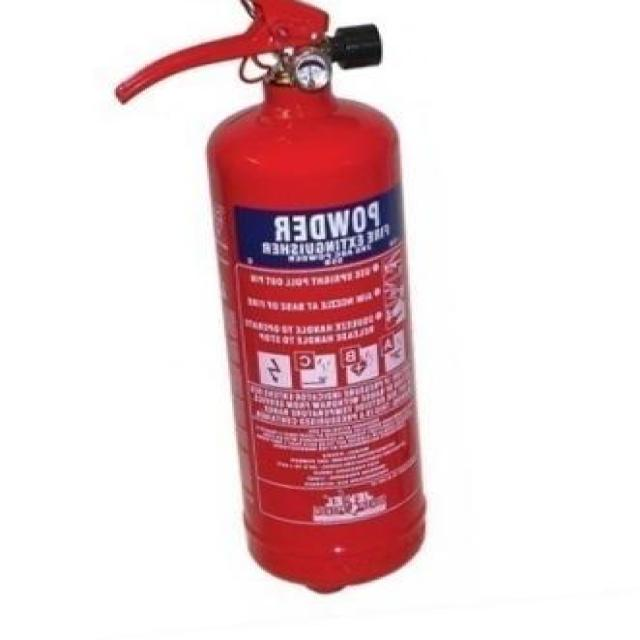fire_extinguisher: (102, 0, 436, 591)
